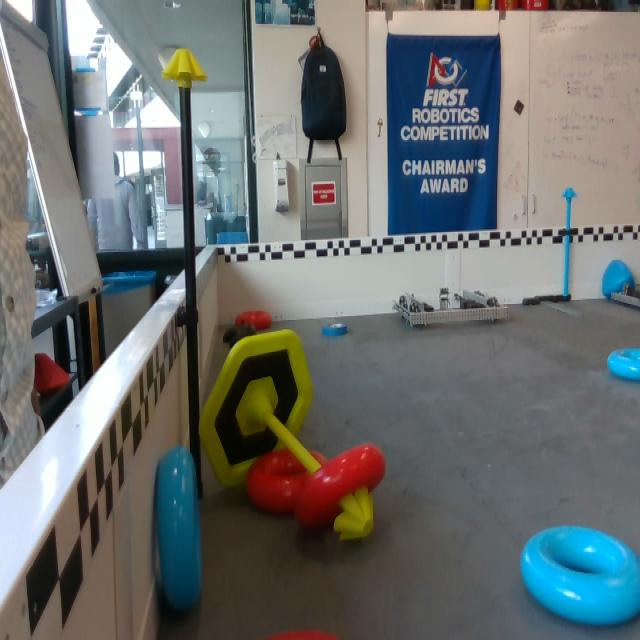Blue-Ring: (521, 525, 639, 629), (154, 448, 203, 615), (607, 345, 639, 388), (319, 321, 353, 337)
Mobile-Goal: (200, 329, 330, 487), (333, 485, 374, 541)
Red-Ring: (298, 444, 386, 531), (246, 461, 306, 512), (236, 308, 272, 330)
Yellow-Stake-Head: (336, 486, 375, 541), (162, 48, 207, 82)
zblue-Stake-Head: (562, 187, 577, 198)
